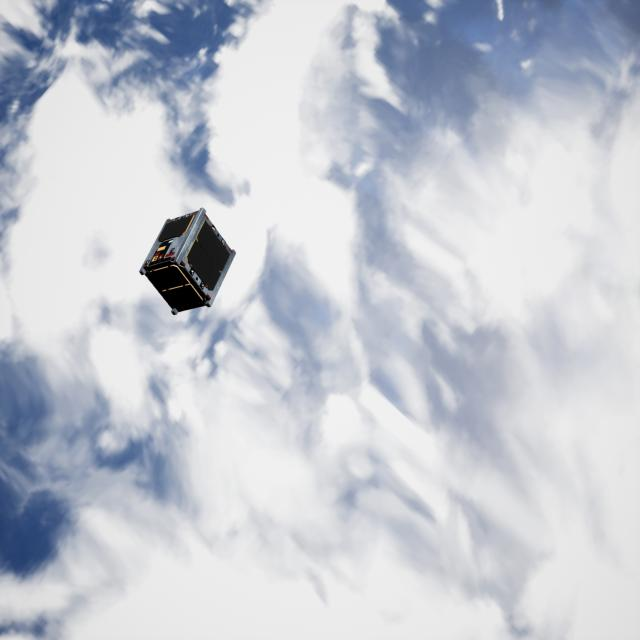satellite: (137, 208, 239, 317)
